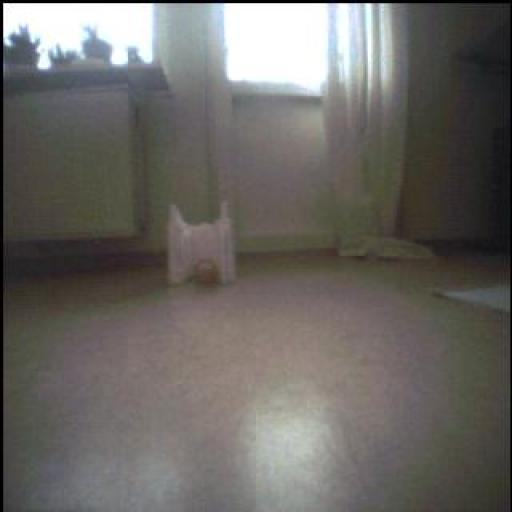Basket: (188, 254, 223, 288)
